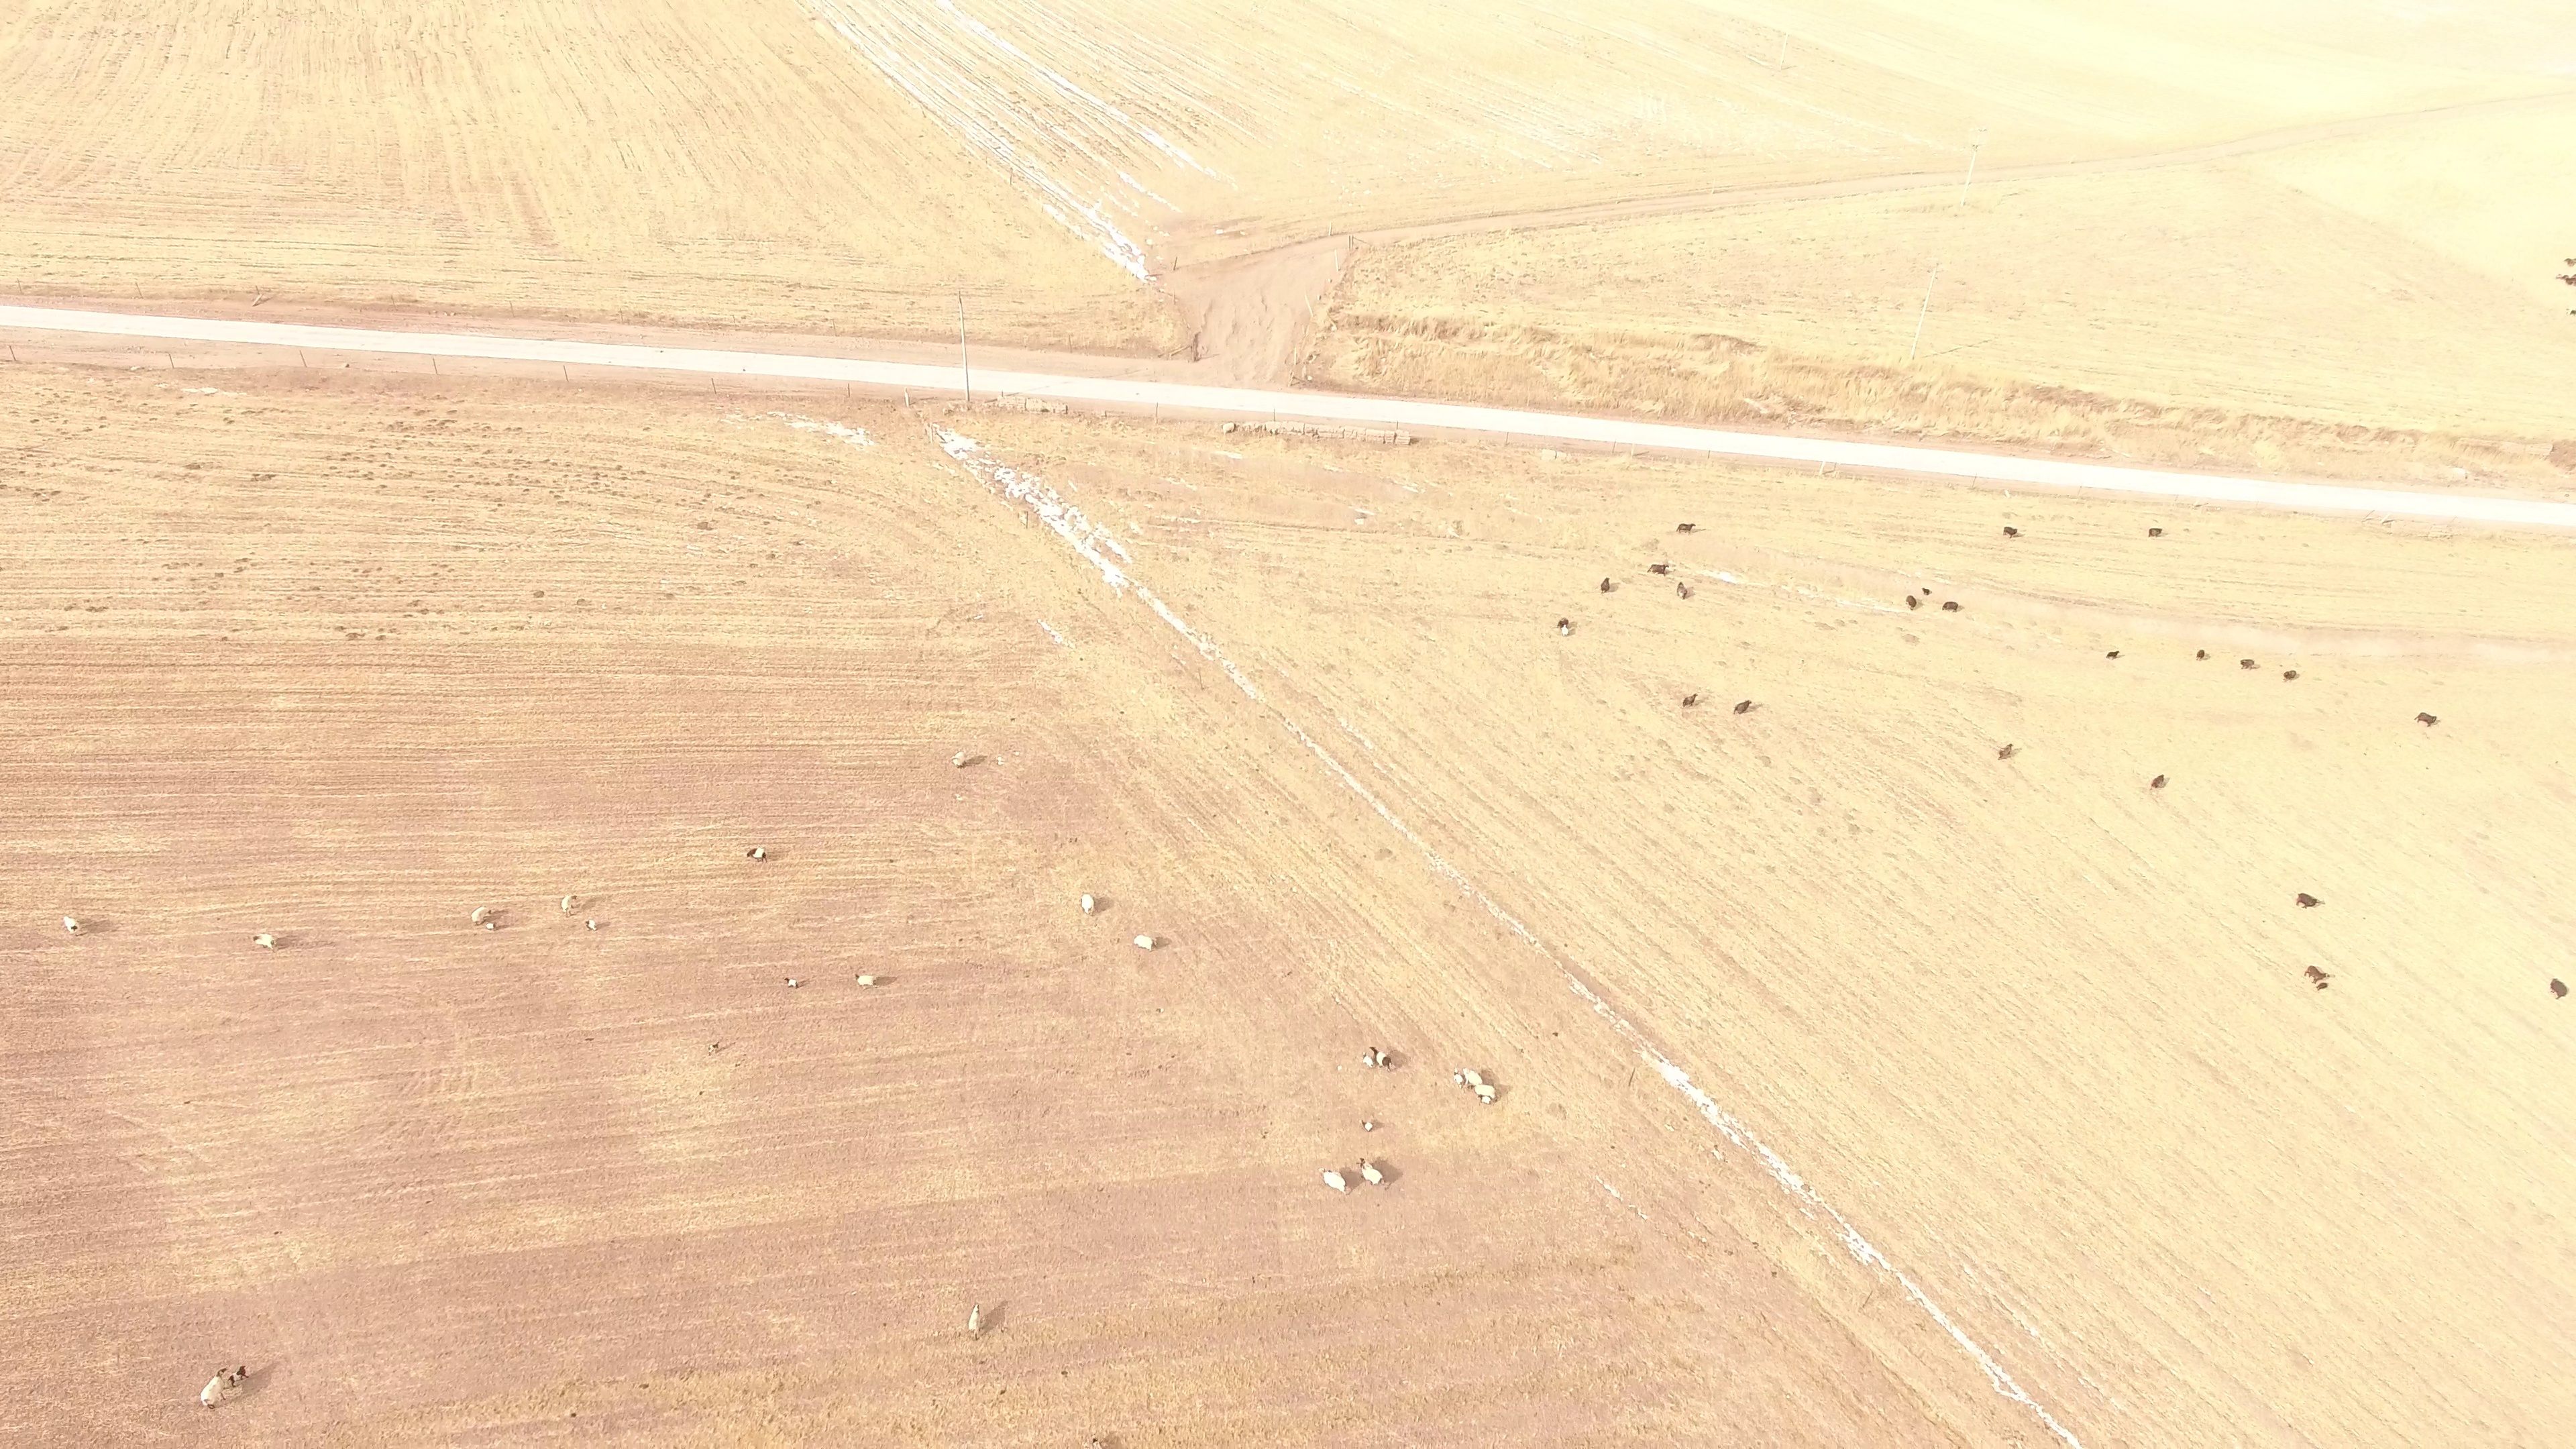sheep: (197, 1366, 227, 1411), (1356, 1155, 1387, 1190), (961, 1301, 986, 1341), (1318, 1167, 1350, 1195), (2294, 890, 2325, 910), (2547, 975, 2572, 1001), (1131, 932, 1161, 954), (1729, 698, 1758, 718), (2304, 962, 2332, 983), (250, 931, 278, 951), (227, 1363, 251, 1387), (1079, 892, 1101, 918), (2415, 709, 2441, 730), (744, 845, 771, 865), (1371, 1046, 1395, 1069), (559, 892, 579, 918), (853, 972, 879, 991), (1554, 615, 1577, 639), (1671, 581, 1694, 603), (1461, 1066, 1483, 1088), (1474, 1082, 1498, 1102), (1939, 598, 1966, 615), (1995, 741, 2017, 763), (1595, 575, 1615, 596), (61, 914, 82, 935), (1678, 692, 1703, 710), (1646, 561, 1670, 579), (2148, 772, 2169, 792), (1903, 592, 1925, 612), (469, 904, 487, 926), (950, 747, 968, 769), (1358, 1052, 1379, 1071), (2000, 523, 2021, 541), (581, 917, 604, 932), (2280, 667, 2302, 684), (1675, 520, 1696, 536), (1357, 1118, 1380, 1133), (2237, 656, 2258, 672), (482, 919, 502, 933), (1450, 1069, 1466, 1087), (704, 1042, 723, 1056), (2145, 525, 2165, 540), (782, 976, 802, 989), (2194, 647, 2208, 663), (2104, 649, 2121, 662), (2314, 981, 2330, 992), (1920, 586, 1933, 598)
unknown: (277, 1361, 309, 1389), (979, 1308, 1004, 1336), (944, 434, 974, 453), (959, 754, 987, 771), (81, 918, 108, 936), (1686, 1085, 1709, 1105), (30, 283, 56, 300), (1662, 1064, 1683, 1083), (76, 360, 108, 374), (2546, 445, 2565, 465), (248, 471, 275, 485), (2063, 1430, 2081, 1448), (273, 934, 292, 951), (694, 519, 714, 534), (631, 310, 649, 328), (1860, 1242, 1876, 1262), (828, 424, 850, 438), (412, 304, 435, 317), (1405, 433, 1423, 449), (2560, 271, 2576, 289), (2043, 384, 2057, 404), (1225, 422, 1241, 437), (1435, 325, 1451, 342), (1101, 1436, 1118, 1448), (1734, 336, 1751, 351), (1373, 315, 1387, 333), (52, 290, 74, 301), (183, 460, 203, 473), (531, 588, 547, 601), (1764, 411, 1785, 422), (669, 320, 690, 331), (726, 392, 743, 404), (1190, 348, 1203, 366), (1189, 331, 1201, 348), (1951, 1328, 1966, 1341), (347, 629, 359, 643), (1842, 417, 1856, 427), (1790, 399, 1803, 414), (303, 382, 317, 394), (257, 295, 270, 307), (2563, 255, 2576, 269), (405, 600, 421, 610), (706, 320, 722, 331), (1785, 1173, 1797, 1185), (1729, 1132, 1741, 1145), (376, 632, 387, 643), (85, 603, 97, 615), (1949, 428, 1962, 441), (679, 388, 692, 399), (267, 291, 280, 304), (212, 570, 227, 580), (48, 488, 61, 499), (1737, 408, 1752, 419), (690, 388, 704, 399), (1352, 315, 1362, 329), (639, 1381, 651, 1392), (1768, 1269, 1780, 1280), (1875, 1251, 1886, 1263), (1608, 1186, 1619, 1198), (57, 623, 69, 633), (94, 604, 105, 615), (663, 590, 676, 601), (239, 555, 251, 566), (767, 551, 778, 561), (609, 488, 621, 498), (378, 482, 388, 492), (614, 462, 624, 474), (2481, 443, 2493, 454), (2334, 429, 2345, 440), (1309, 429, 1321, 439), (2383, 428, 2395, 439), (1240, 428, 1251, 441), (1750, 411, 1762, 421), (945, 407, 955, 419), (1038, 405, 1051, 416), (2149, 405, 2161, 417), (909, 398, 921, 408), (749, 392, 760, 402), (318, 375, 331, 386), (467, 347, 477, 359), (218, 333, 230, 343), (207, 332, 219, 343), (621, 316, 633, 327), (515, 311, 527, 321), (484, 310, 496, 321), (474, 309, 486, 320), (345, 301, 357, 312), (147, 291, 160, 303), (568, 1410, 579, 1421), (1059, 1368, 1069, 1378), (1880, 1259, 1890, 1270), (1761, 1146, 1772, 1157), (1680, 1071, 1690, 1081), (579, 902, 590, 912), (418, 606, 429, 617), (311, 584, 322, 594), (235, 564, 246, 575), (790, 539, 802, 549), (703, 490, 713, 500), (31, 489, 41, 499), (2055, 442, 2065, 452), (2003, 437, 2013, 447), (942, 434, 953, 444), (2239, 418, 2249, 428), (913, 411, 923, 421), (1813, 405, 1825, 417), (1783, 398, 1794, 409), (2059, 396, 2071, 407), (857, 394, 869, 405), (796, 394, 806, 405), (1351, 382, 1362, 393), (1305, 352, 1316, 363), (1071, 343, 1081, 354), (437, 339, 447, 349), (955, 336, 965, 346), (1726, 334, 1737, 344), (1449, 327, 1460, 339), (117, 326, 127, 336), (1410, 324, 1421, 334), (1419, 323, 1430, 333), (1435, 319, 1445, 329), (451, 308, 462, 319), (523, 307, 533, 317), (95, 290, 105, 301), (206, 286, 216, 297), (2567, 461, 2576, 472), (408, 297, 421, 307), (1089, 1435, 1099, 1445), (2010, 1392, 2021, 1402), (2018, 1391, 2028, 1401), (998, 1387, 1008, 1397), (1992, 1377, 2002, 1388), (587, 896, 597, 906), (65, 603, 75, 613), (578, 596, 588, 606), (505, 470, 515, 481), (484, 447, 494, 457), (796, 420, 806, 430), (2302, 419, 2312, 429), (952, 401, 962, 411), (658, 313, 668, 323), (443, 308, 453, 318), (287, 297, 297, 307), (194, 292, 204, 303), (20, 282, 30, 292), (2561, 447, 2571, 457), (866, 438, 876, 448), (1151, 346, 1161, 356), (385, 329, 395, 339), (2568, 307, 2576, 317), (1112, 1442, 1122, 1449), (1, 482, 7, 492), (1099, 1444, 1110, 1449)
